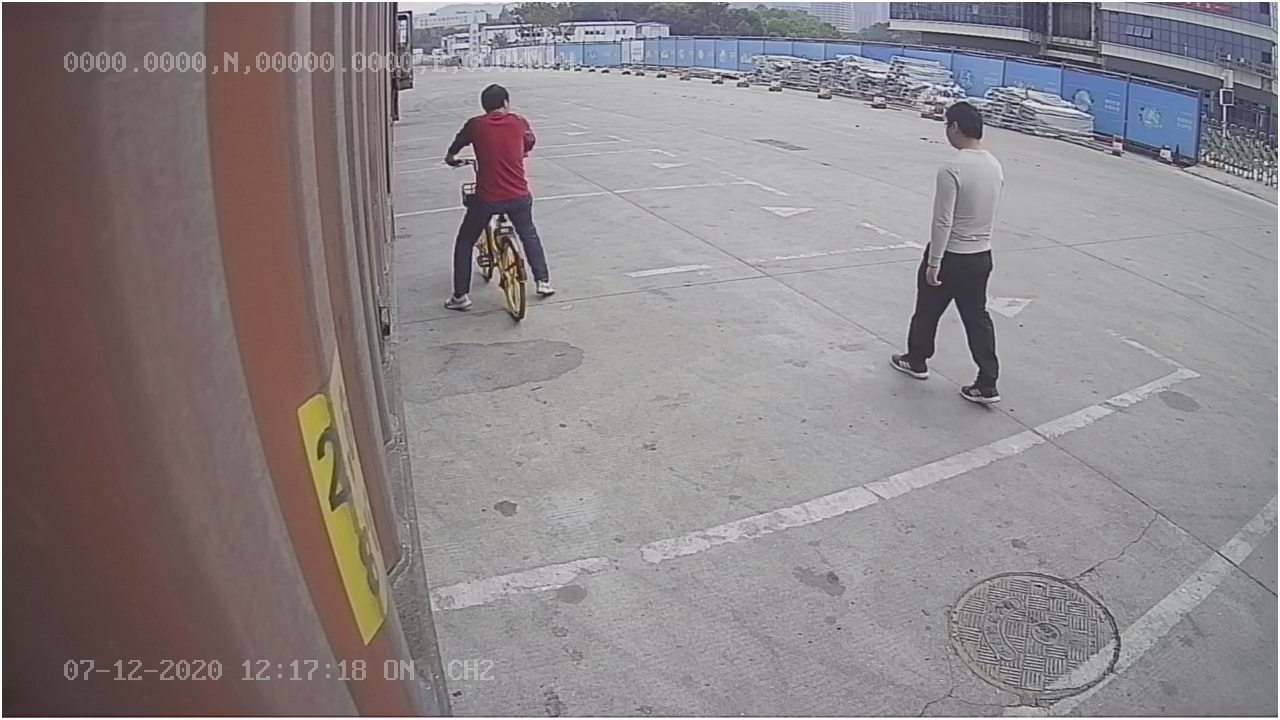person: (886, 100, 1010, 405)
